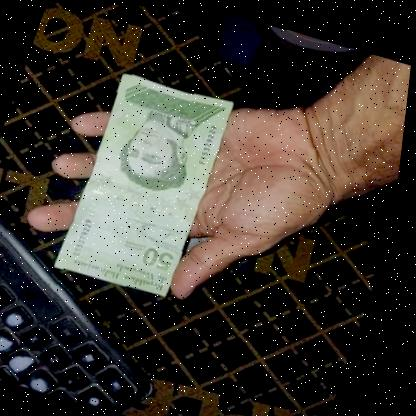fifty-front-vef: (56, 67, 241, 301)
